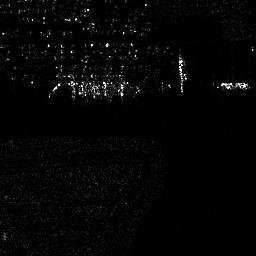ship: (71, 83, 141, 97), (215, 80, 249, 89)
